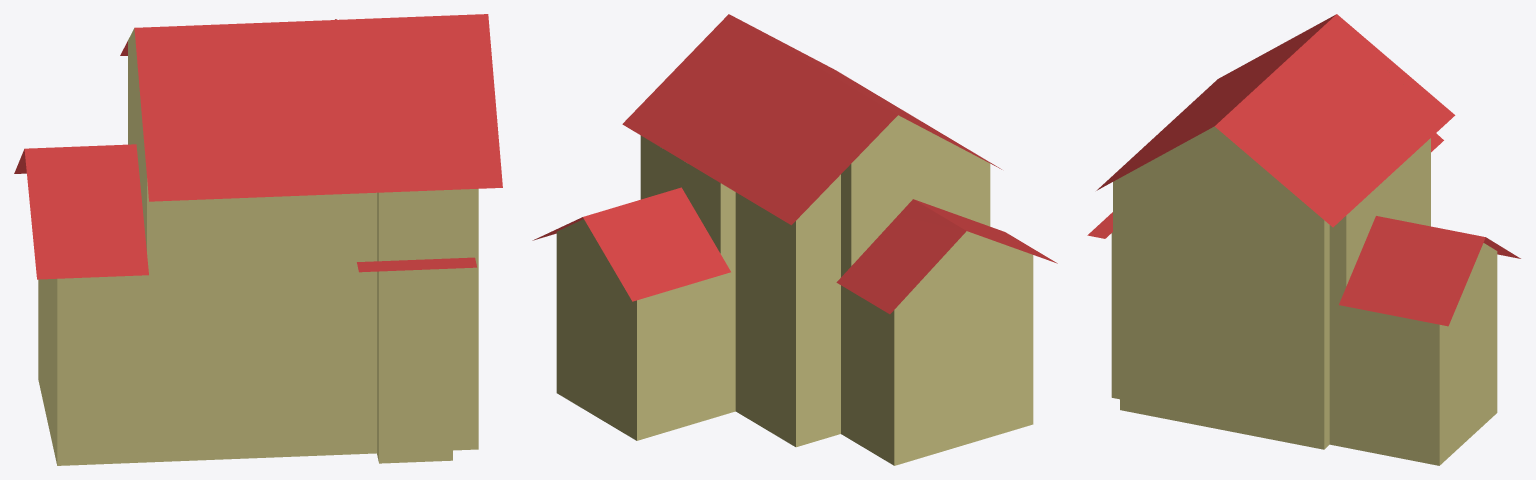
3 renders of one model, left to right at view 1: azimuth 30°, elevation 25°; view 2: azimuth 150°, elevation 25°; view 3: azimuth 270°, elevation 25°, orthographic. The views are drawn at different scales.
Parts seen in each view (by area): view 1: group_9, group_7, group_5, group_17, group_3, group_8, group_4, group_16, group_15; view 2: group_9, group_5, group_7, group_13, group_11, group_3, group_8, group_12, group_4; view 3: group_9, group_7, group_13, group_11, group_12, group_8.
Part boxes in pixels (x1,y1,x2,y2): group_9: [128, 28, 478, 462]; group_7: [120, 14, 502, 201]; group_5: [38, 275, 146, 465]; group_17: [379, 268, 452, 463]; group_3: [17, 144, 146, 278]; group_8: [147, 165, 474, 201]; group_4: [14, 149, 148, 279]; group_16: [357, 257, 476, 271]; group_15: [357, 257, 476, 272]; group_9: [640, 115, 990, 447]; group_5: [851, 231, 1033, 465]; group_7: [622, 14, 986, 203]; group_13: [556, 219, 720, 440]; group_11: [532, 187, 720, 301]; group_3: [842, 199, 1031, 314]; group_8: [696, 14, 1001, 225]; group_12: [583, 213, 730, 301]; group_4: [836, 225, 1057, 313]; group_9: [1113, 126, 1430, 449]; group_7: [1096, 14, 1430, 227]; group_13: [1346, 243, 1497, 465]; group_11: [1339, 216, 1520, 309]; group_12: [1339, 234, 1520, 326]; group_8: [1106, 58, 1455, 226].
Bounding box in the file's own units: 20.32 × 17.74 × 14.
